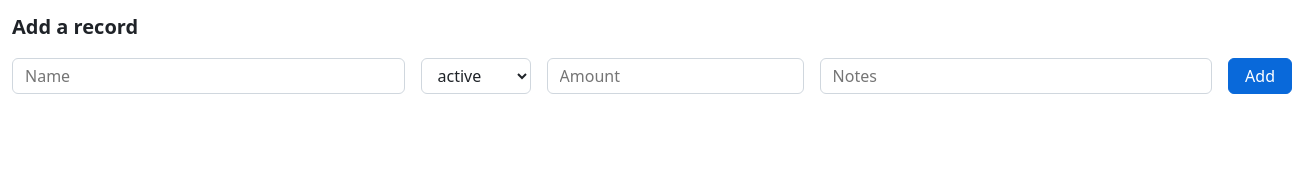
NewRecordForm › surfaces a 400 against the offending field and marks it invalid
Step 1. Type "Gamma" into the field named "New name" → {"x": 208, "y": 76}, box [12,58,404,94]
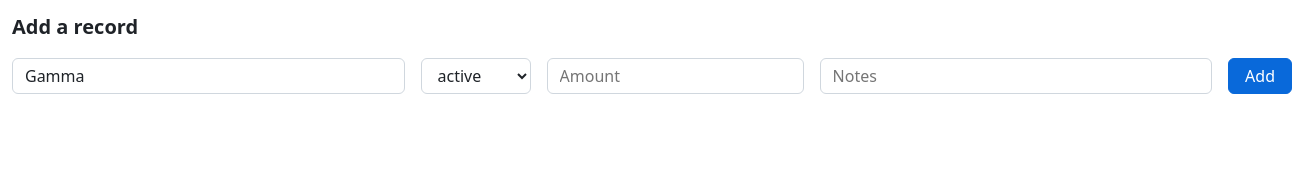
Step 2. Type "-1" into the number field named "New amount" → {"x": 675, "y": 76}, box [546,58,804,94]
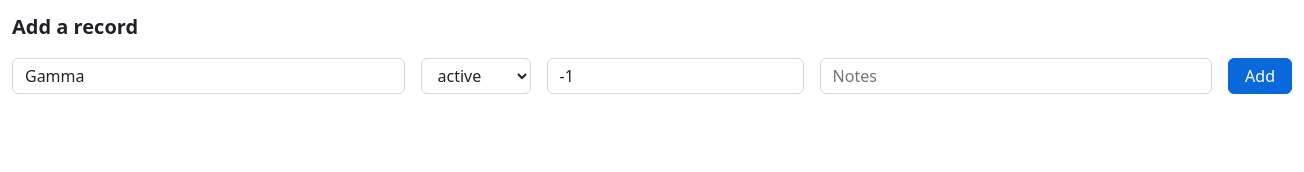
Step 3. Click the button "Add" → {"x": 1260, "y": 76}, box [1228,58,1292,94]
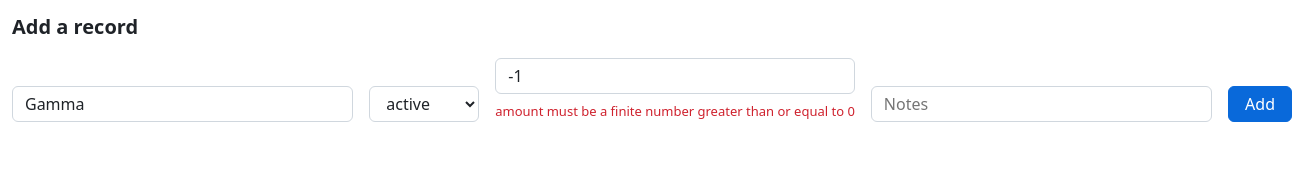
Check: the message reads "amount must be a finite number greater than or equal to 0", box [495,102,855,120]
